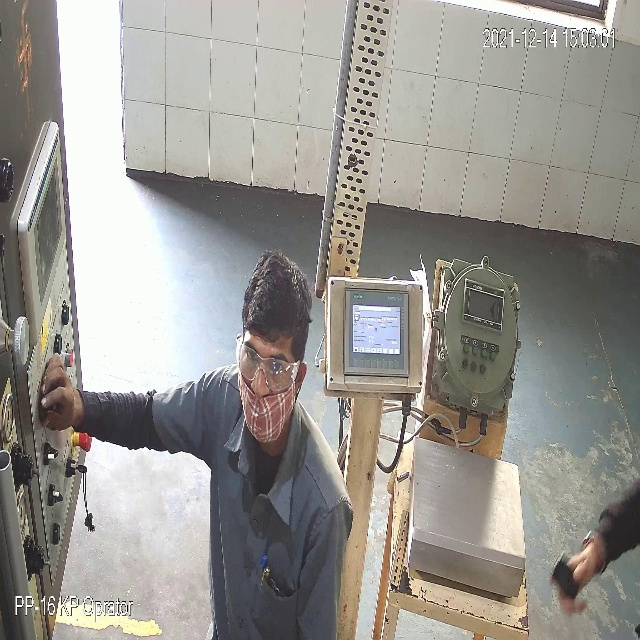Gafas: (237, 344, 302, 391)
